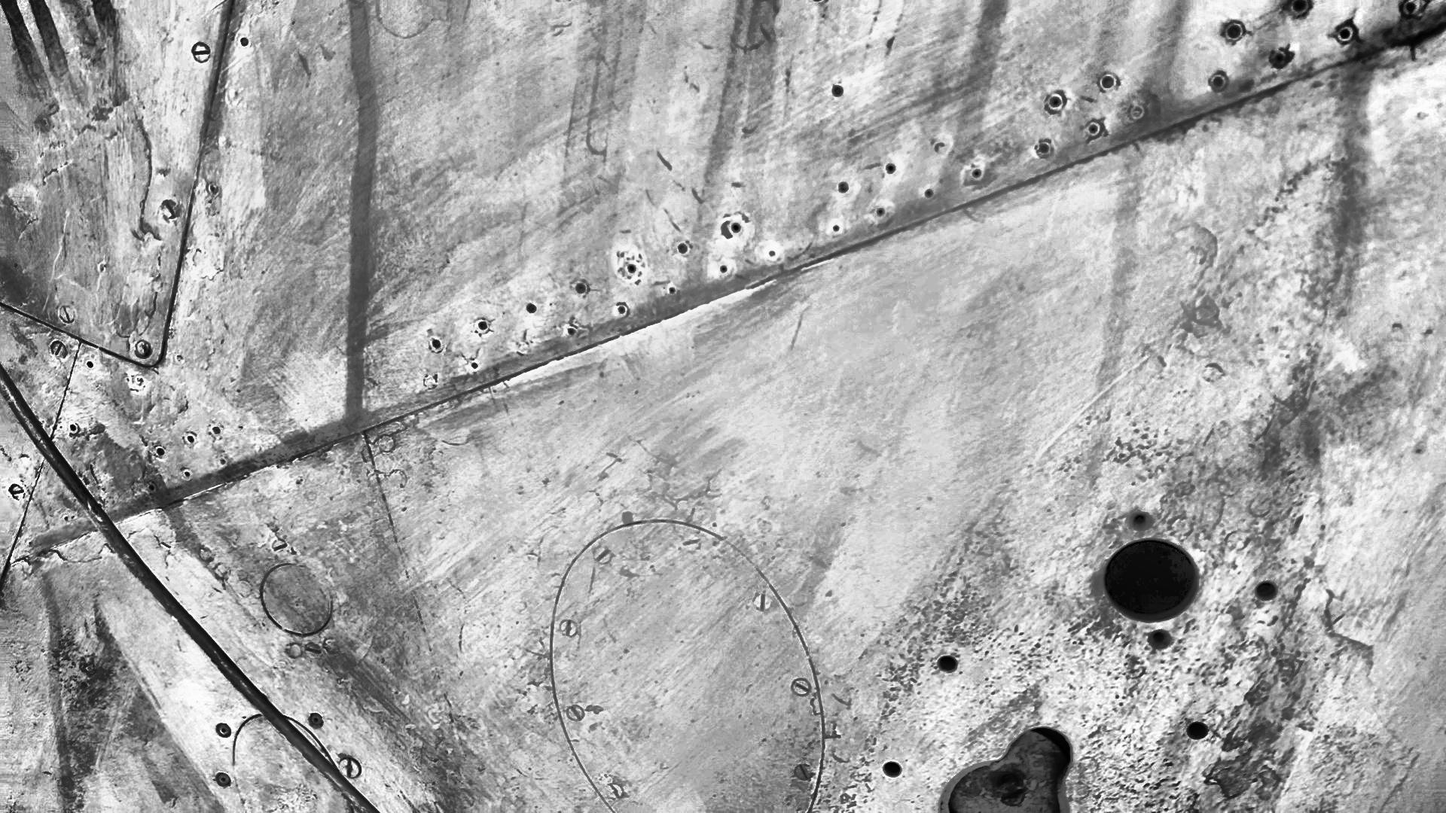missing-head: (1147, 627, 1173, 651), (1132, 514, 1156, 533), (1337, 24, 1356, 43), (1100, 70, 1118, 90), (1209, 70, 1229, 88), (563, 322, 582, 339), (1049, 90, 1064, 111), (1226, 23, 1243, 40), (838, 177, 855, 194), (731, 216, 744, 237), (153, 442, 169, 459), (1036, 139, 1052, 156), (715, 260, 731, 277), (625, 258, 638, 277), (1086, 122, 1103, 136), (217, 772, 230, 790), (883, 160, 898, 175), (970, 166, 985, 181), (143, 480, 158, 495), (1292, 0, 1309, 13), (1275, 49, 1288, 66), (678, 239, 691, 256), (217, 721, 230, 738), (525, 299, 537, 316), (576, 280, 589, 295), (429, 337, 444, 350), (830, 218, 843, 233), (667, 282, 680, 297), (309, 711, 322, 726), (616, 299, 627, 316), (467, 359, 480, 373), (179, 470, 196, 480), (185, 431, 198, 444), (66, 422, 79, 435), (923, 186, 936, 199), (476, 318, 488, 331), (874, 207, 887, 218), (83, 359, 98, 367)
